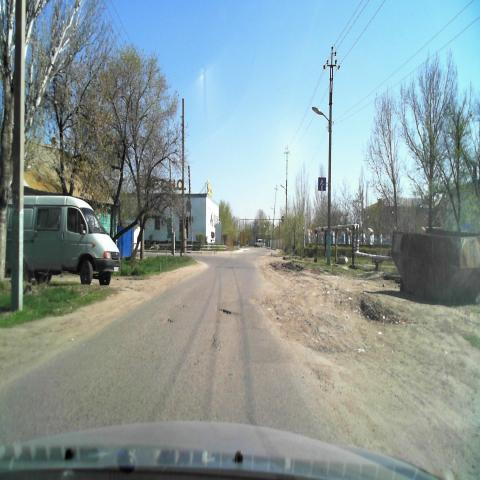5_6: (318, 177, 326, 191)
